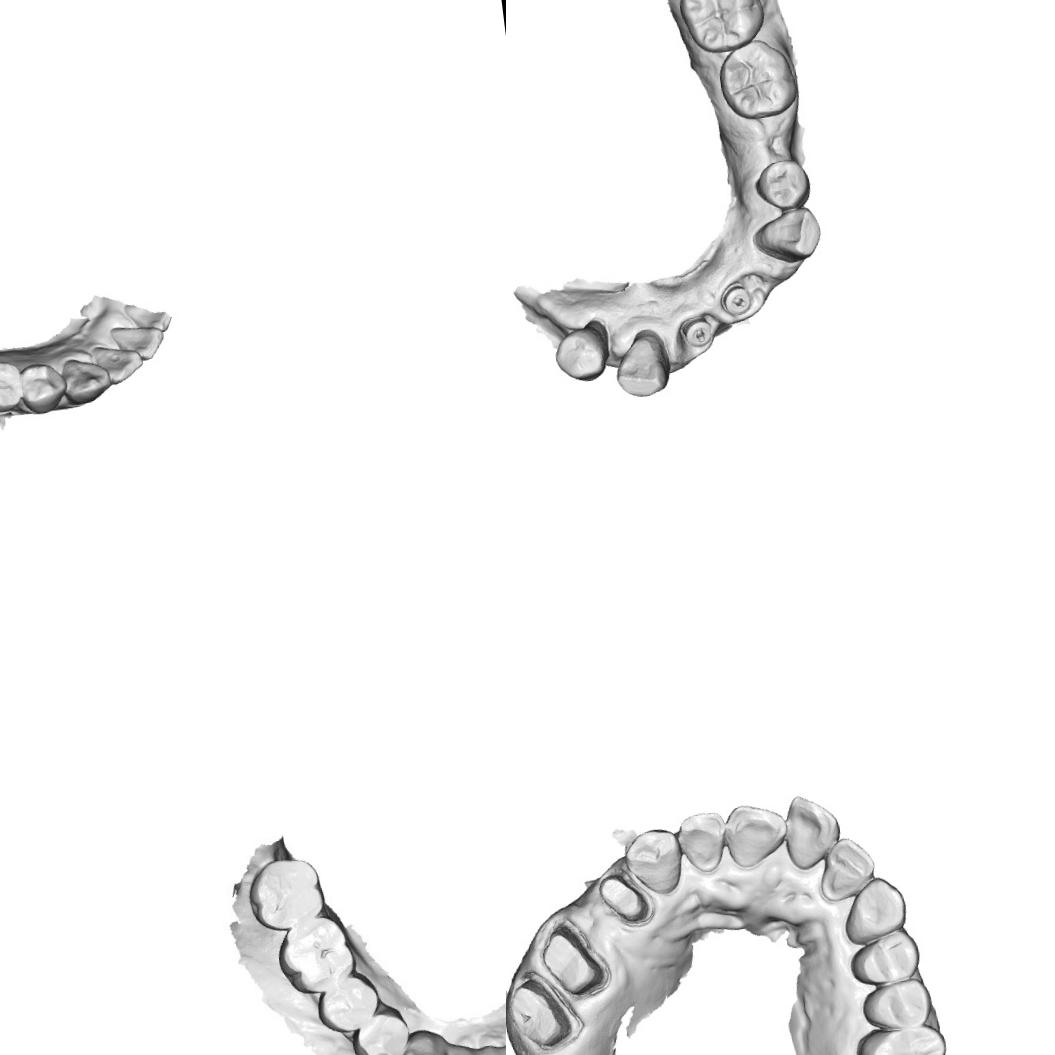canine: (838, 874, 912, 949), (621, 824, 687, 898), (751, 203, 826, 268), (609, 330, 674, 401), (58, 352, 113, 404), (387, 1024, 454, 1055)
crown: (506, 970, 583, 1054), (536, 921, 606, 1001), (596, 870, 652, 932)
implant_minus: (678, 313, 716, 352), (718, 282, 755, 318)
incisor: (778, 790, 846, 873), (720, 797, 794, 872), (814, 834, 880, 902), (674, 808, 730, 877), (107, 320, 168, 366), (91, 340, 147, 387), (122, 296, 174, 336), (437, 1039, 480, 1055)
molar: (713, 33, 801, 124), (272, 916, 360, 998), (244, 852, 329, 936), (673, 0, 766, 58), (852, 1018, 954, 1055)
premolar: (846, 926, 924, 990), (858, 974, 936, 1038), (314, 972, 382, 1038), (550, 323, 614, 387), (751, 155, 816, 214), (347, 1009, 413, 1055), (18, 359, 70, 416), (0, 355, 25, 415)
